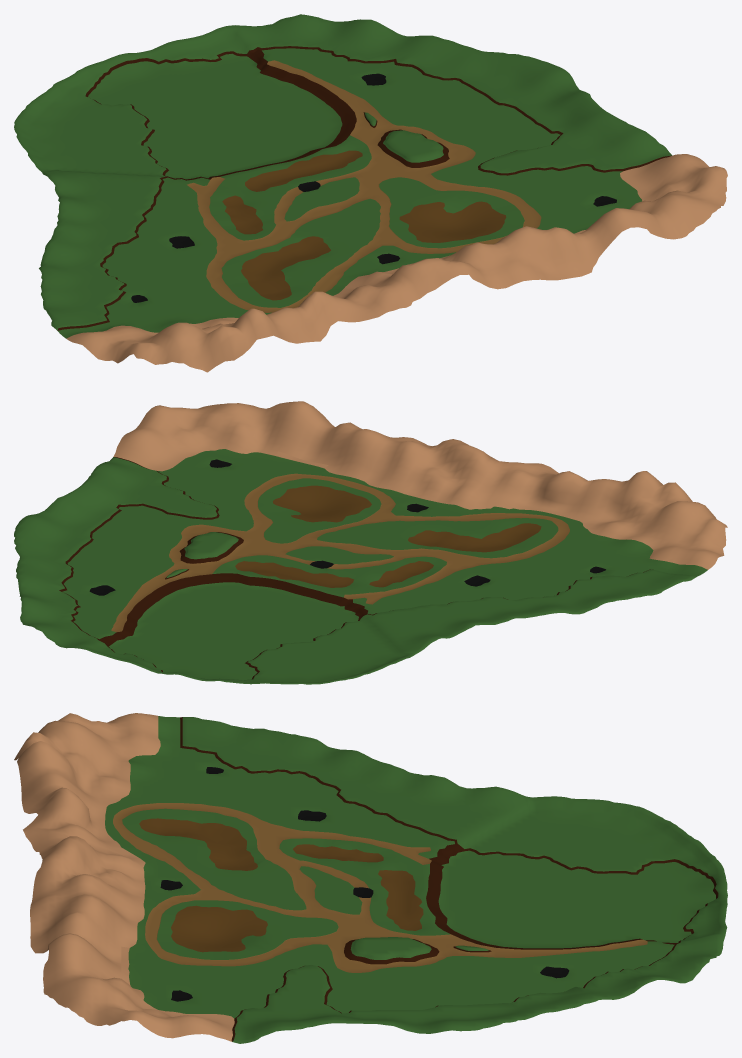
File: Swamp_Terrain.FBX
3 views of the same model, one above another, from view 1: azimuth 30°, elevation 25°; view 2: azimuth 150°, elevation 25°; view 3: azimuth 270°, elevation 25° (orthographic). The views are drawn at different scales.
Parts seen in each view (by area): view 1: Swamp_terrain; view 2: Swamp_terrain; view 3: Swamp_terrain.
Boxes of the visible parts, x1,y1,x2,y2 form: Swamp_terrain: (14,14,727,372); Swamp_terrain: (14,401,727,684); Swamp_terrain: (14,713,727,1043).
Size of the model in its own units: 56060 by 4233 by 51560.
